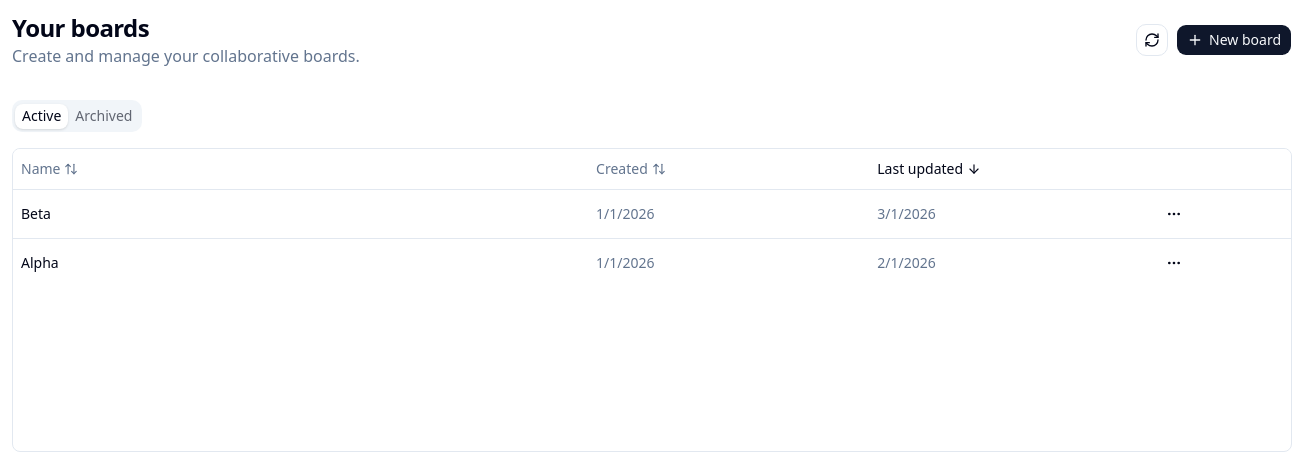
Test: DashboardPage integration › switches to the archived tab and lists archived boards with Restore action
Expected: the button "Alpha" is shown, [21,252,580,272]
Click the tab "Archived".
click(104, 116)  # box [68,104,139,128]
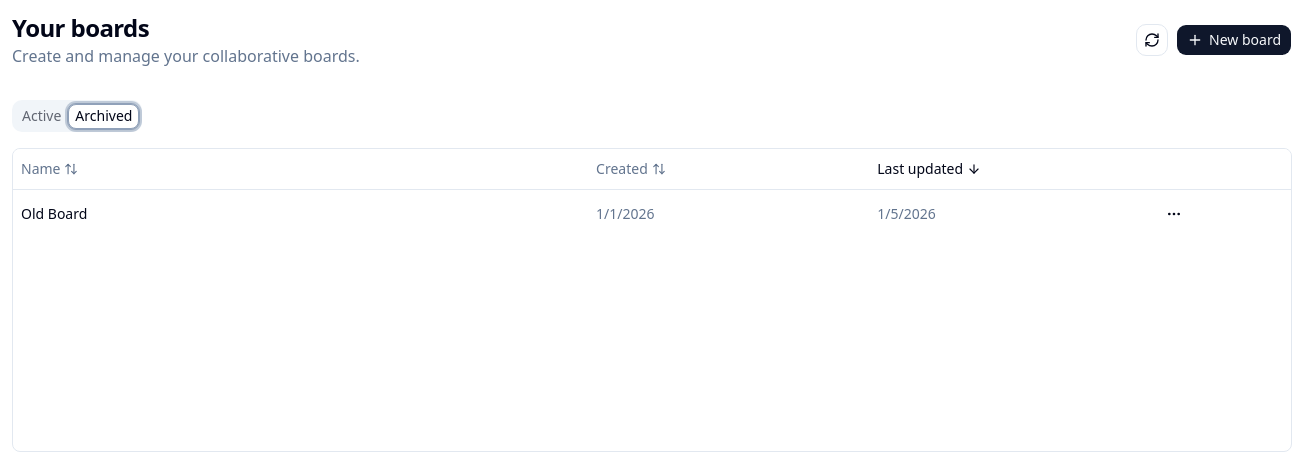
Result: the button "Old Board" is shown at [21,204,580,224]
Click the button named "Board actions".
click(1174, 214)  # box [1158,198,1190,230]
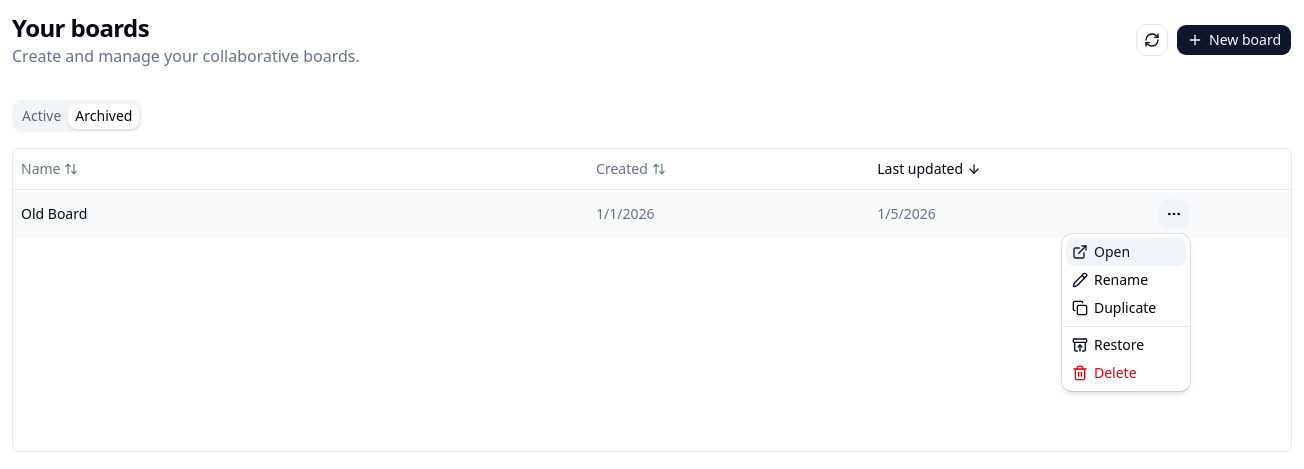
Result: the menu is shown at [1062,234,1190,391]
Result: the menu item "Restore" is shown at [1072,335,1144,354]
